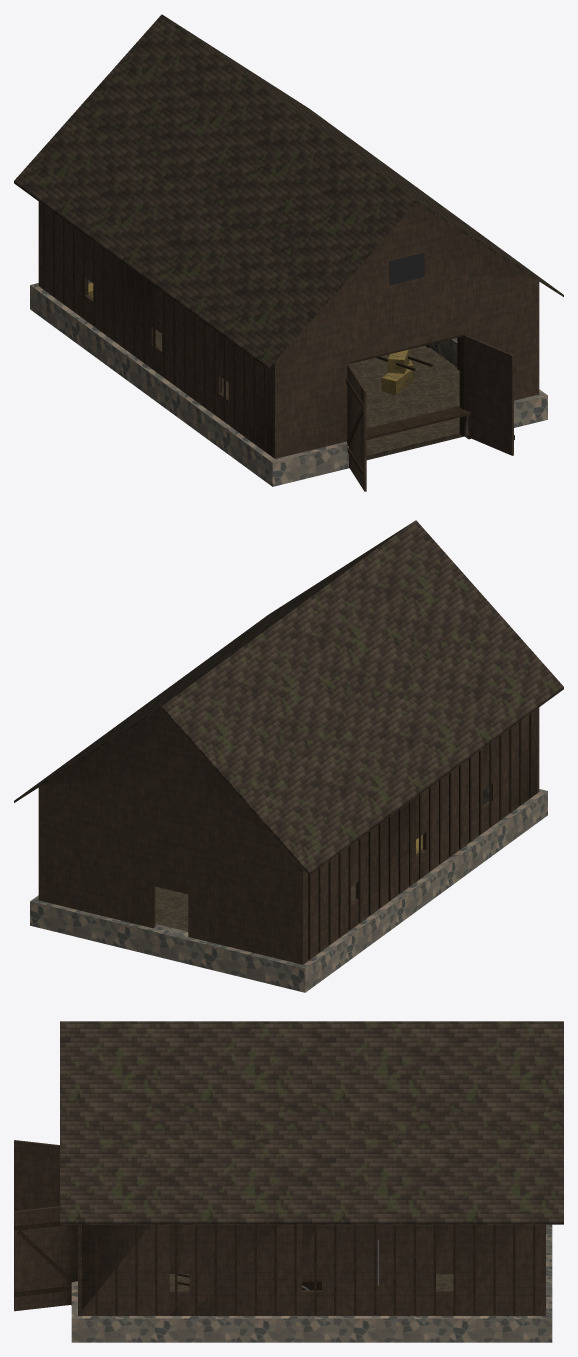
The model's file is barn.glb.
3 renders of one model, top to bottom at view 1: azimuth 30°, elevation 25°; view 2: azimuth 150°, elevation 25°; view 3: azimuth 270°, elevation 25°, orthographic.
Visible parts, largest first — view 1: Barn, Door_Right, Door_Left; view 2: Barn; view 3: Barn, Door_Right, Door_Left.
Part boxes in pixels (x1,y1,x2,y2): Barn: (14, 14, 563, 486); Door_Right: (465, 335, 514, 455); Door_Left: (346, 364, 366, 491); Barn: (14, 520, 563, 992); Barn: (60, 1021, 563, 1342); Door_Right: (14, 1206, 77, 1311); Door_Left: (14, 1140, 59, 1211).
Size of the model in its own units: 10.38 by 8.63 by 16.59.
Materials: 10 (7 with a texture image).
